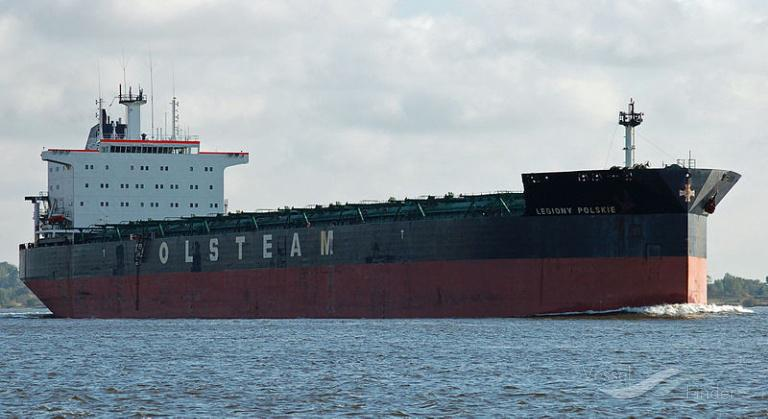OCR: (132, 230, 342, 268), (534, 199, 620, 229)
